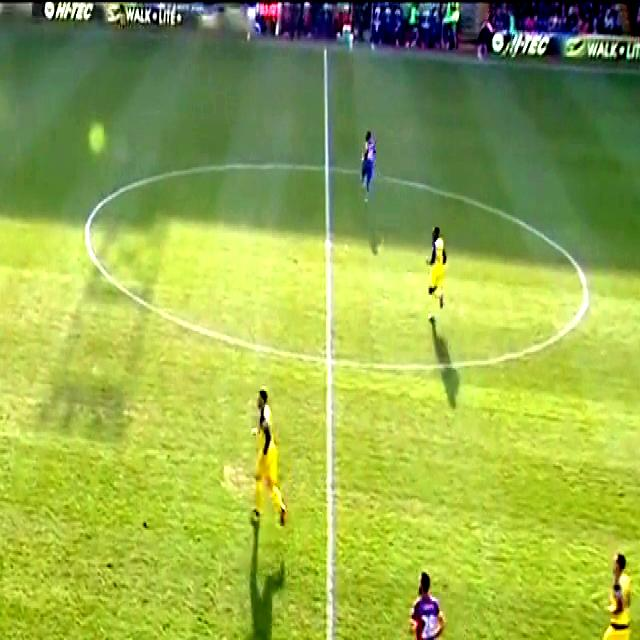soccer-player: (248, 388, 294, 538), (590, 542, 639, 640), (397, 570, 461, 640), (418, 222, 452, 314), (353, 125, 382, 205)
